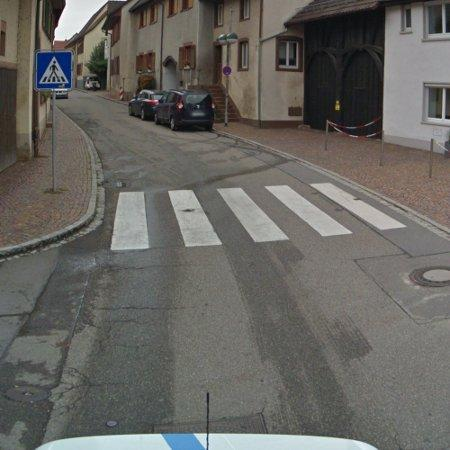crosswalks: (106, 179, 415, 251)
